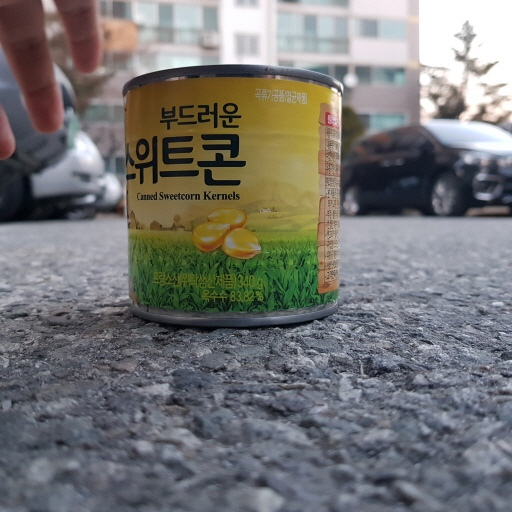Metal_1: (117, 61, 344, 325)
